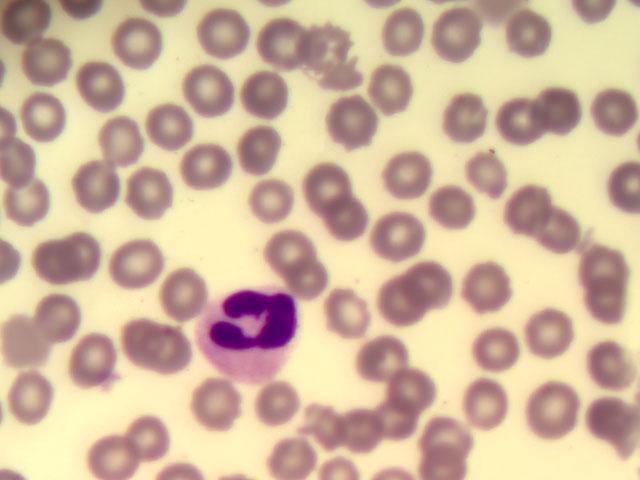RBC: (22, 37, 74, 92), (19, 87, 71, 142), (2, 175, 54, 230), (69, 158, 121, 213), (92, 120, 144, 175), (81, 58, 133, 113), (114, 16, 166, 71), (196, 6, 248, 61), (189, 54, 241, 109), (154, 92, 206, 147), (123, 165, 175, 220), (176, 139, 228, 194), (244, 111, 296, 166), (243, 70, 295, 125), (303, 20, 355, 75), (256, 18, 308, 73), (322, 91, 374, 146), (354, 62, 406, 117), (385, 12, 437, 67), (429, 10, 481, 65), (497, 10, 549, 65), (494, 89, 546, 144), (531, 80, 583, 135), (588, 88, 640, 143), (539, 203, 591, 258), (487, 180, 539, 235), (466, 150, 518, 205), (439, 85, 491, 140), (387, 144, 439, 199), (424, 174, 476, 229), (376, 209, 428, 264), (321, 202, 373, 257), (302, 163, 354, 218), (245, 173, 297, 228), (265, 218, 317, 273), (288, 252, 340, 307), (327, 284, 379, 339), (373, 274, 425, 329), (400, 253, 452, 308), (470, 261, 522, 316), (569, 273, 621, 328), (586, 237, 638, 292), (524, 303, 576, 358), (475, 324, 527, 379), (450, 381, 502, 436), (419, 411, 471, 466), (518, 380, 570, 435), (588, 394, 640, 449), (588, 336, 640, 391), (394, 366, 446, 421), (351, 335, 403, 390), (371, 391, 423, 446), (343, 404, 395, 459), (300, 401, 352, 456), (256, 425, 308, 480), (252, 379, 304, 434), (189, 375, 241, 430), (122, 406, 174, 461), (89, 425, 141, 480), (153, 324, 205, 379), (110, 309, 162, 364), (164, 269, 216, 324), (122, 239, 174, 294), (66, 233, 118, 288), (19, 233, 71, 288), (33, 292, 85, 347), (1, 314, 53, 369), (4, 369, 56, 424), (66, 332, 118, 387), (2, 1, 54, 55)
WBC: (198, 284, 299, 378)
